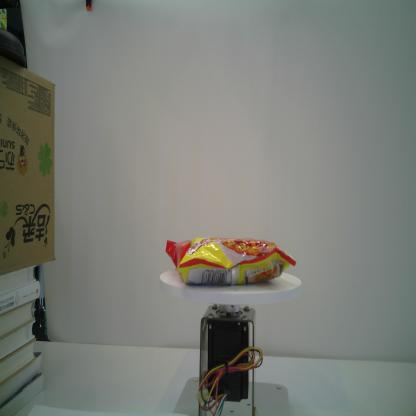Instant Noodles: (164, 237, 298, 287)
